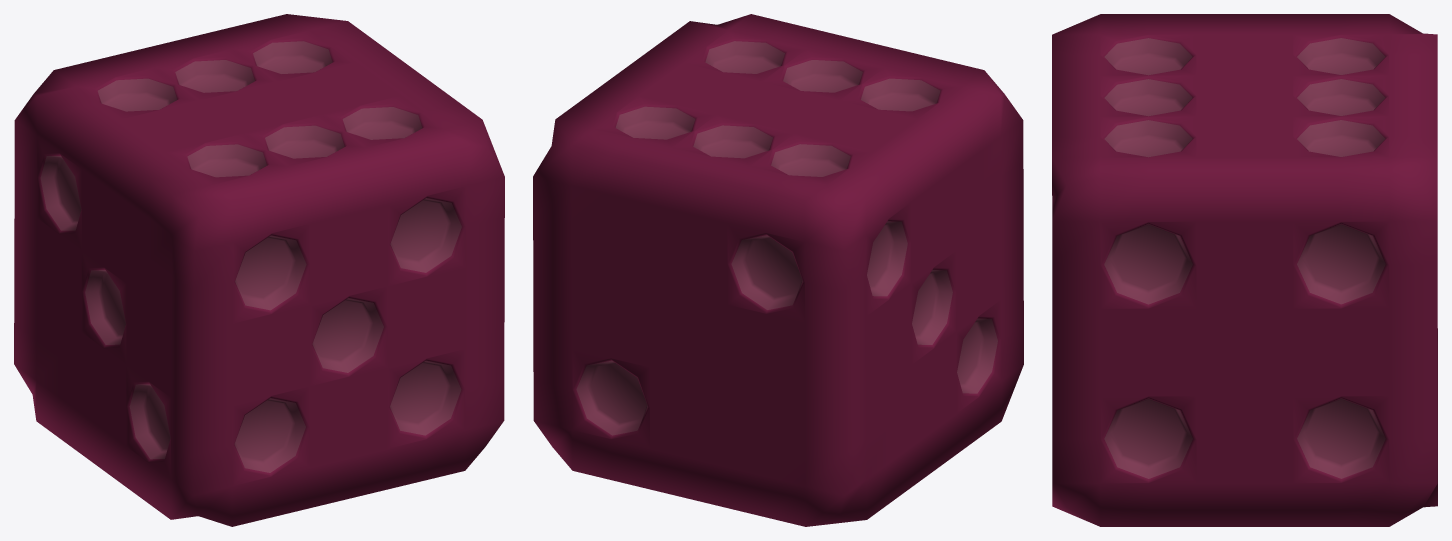
The model's file is Dice.fbx.
3 renders of one model, left to right at view 1: azimuth 30°, elevation 25°; view 2: azimuth 150°, elevation 25°; view 3: azimuth 270°, elevation 25°, orthographic. The views are drawn at different scales.
Visible parts, largest first — view 1: Cube.001; view 2: Cube.001; view 3: Cube.001.
Boxes of the visible parts, x1,y1,x2,y2 form: Cube.001: (14,14,504,526); Cube.001: (533,14,1023,526); Cube.001: (1052,14,1437,526).
Bounding box in the file's own units: 201 × 201 × 200.
